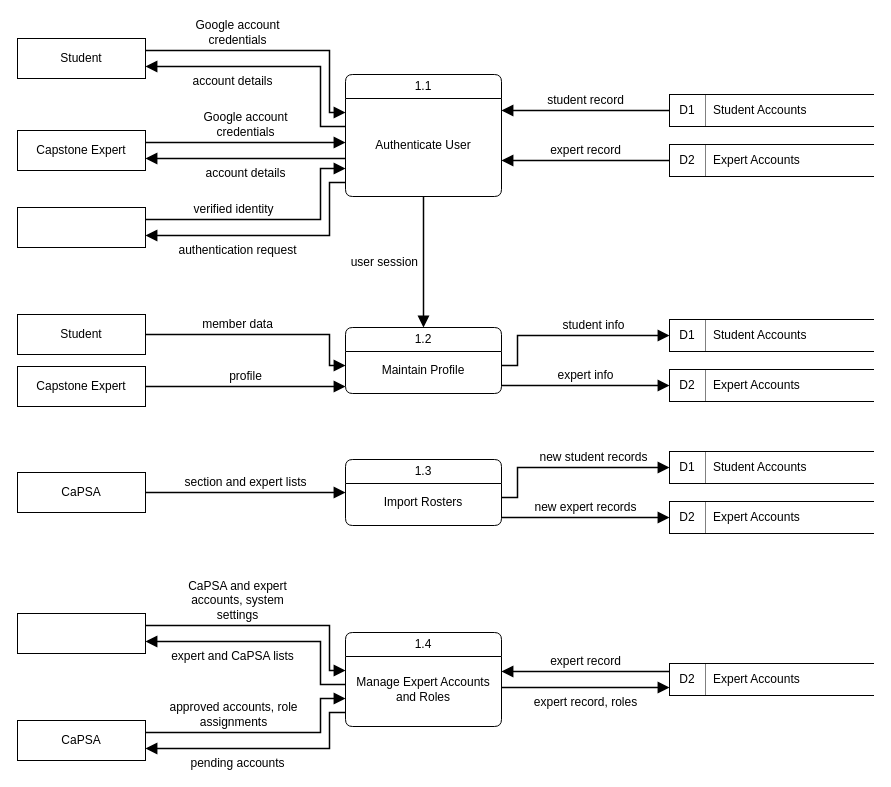
This 891x787 diagram has some shape labels left out. The centre of each missing label's shape, as x and y in pixels:
Administrator: (x=81, y=633)
Google Services: (x=81, y=227)
